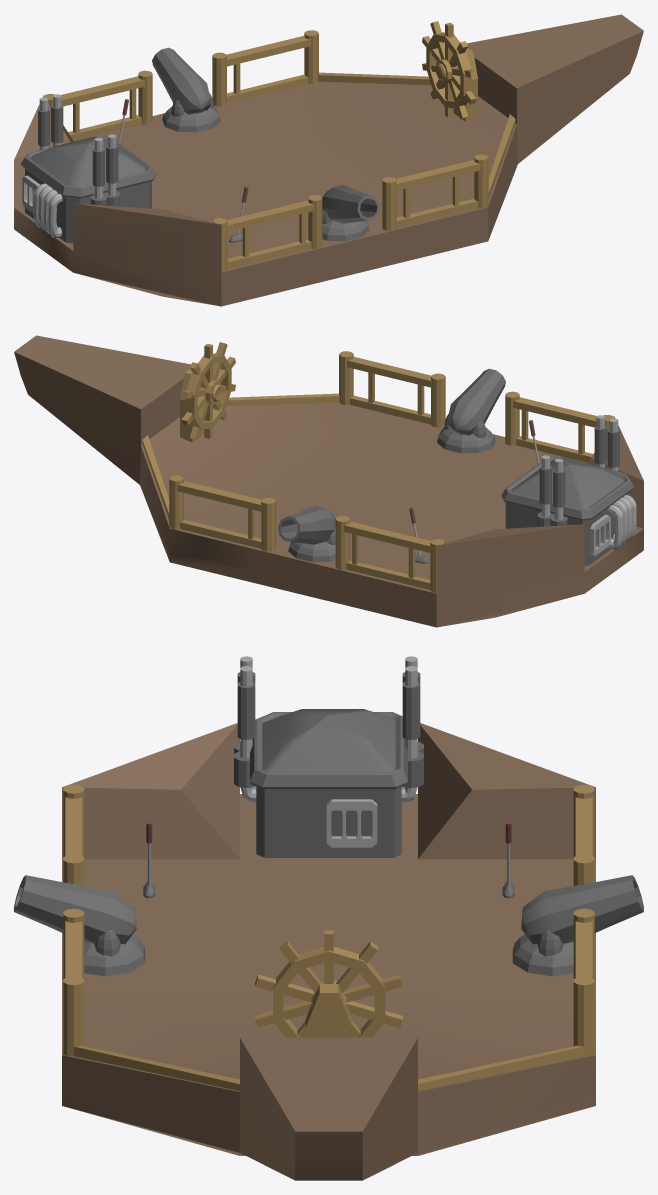
Rendered from Boat.fbx.
3 views of the same model, one above another, from view 1: azimuth 30°, elevation 25°; view 2: azimuth 150°, elevation 25°; view 3: azimuth 270°, elevation 25° (orthographic). The views are drawn at different scales.
Visible parts, largest first — view 1: pCube1, polySurface16, pCylinder7, pCube14, pCube27, polySurface19, polySurface21, polySurface17, polySurface23, pCylinder12, pCube19; view 2: pCube1, polySurface16, pCylinder7, pCube14, pCube27, pCube19, polySurface17, polySurface23, polySurface19, polySurface21, pCylinder9; view 3: pCube1, pCube14, polySurface16, pCylinder7, pCube27, pCube20, polySurface17, polySurface19.
Part boxes in pixels (x1,y1,x2,y2): pCube1: (14,14,643,306); polySurface16: (43,30,515,271); pCylinder7: (152,47,379,241); pCube14: (21,135,156,243); pCube27: (422,21,477,121); polySurface19: (51,104,63,143); polySurface21: (92,148,104,186); polySurface17: (106,145,118,183); polySurface23: (38,108,50,146); pCylinder12: (48,193,62,237); pCube19: (22,175,39,213); pCube1: (14,335,643,627); polySurface16: (142,351,614,592); pCylinder7: (278,368,505,562); pCube14: (501,457,634,565); pCube27: (180,342,235,442); pCube19: (590,514,610,555); polySurface17: (594,425,606,464); polySurface23: (553,469,565,507); polySurface19: (539,466,551,504); polySurface21: (607,429,619,467); pCylinder9: (608,505,623,549); pCube1: (62,723,595,1180); pCube14: (250,709,407,857); polySurface16: (63,784,594,1090); pCylinder7: (14,875,643,976); pCube27: (255,930,402,1037); pCube20: (326,799,377,847); polySurface17: (237,682,255,739); polySurface19: (402,682,420,739).
Size of the model in its own units: 95.06 by 26.29 by 57.65.
